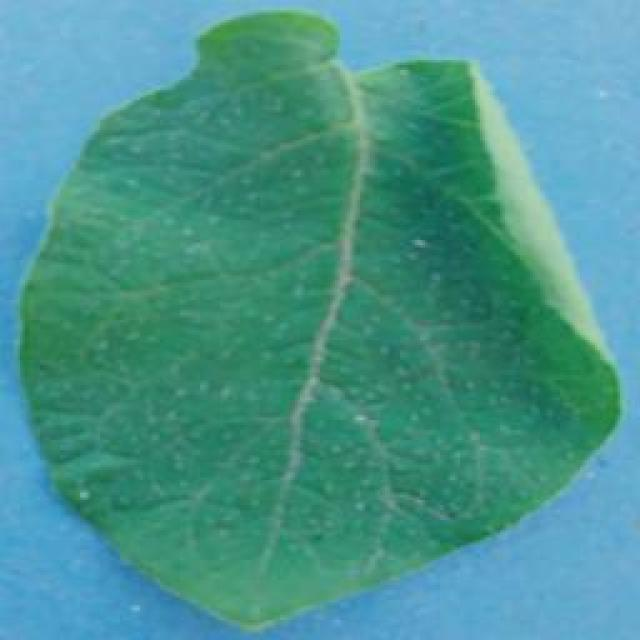Potato_Healthy: (17, 9, 618, 630)
